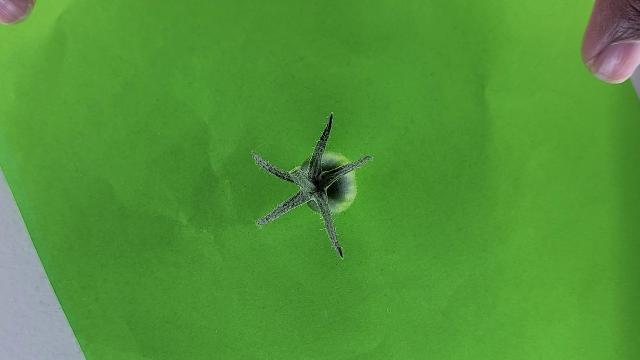Fruit Maturation: (302, 152, 359, 215)
